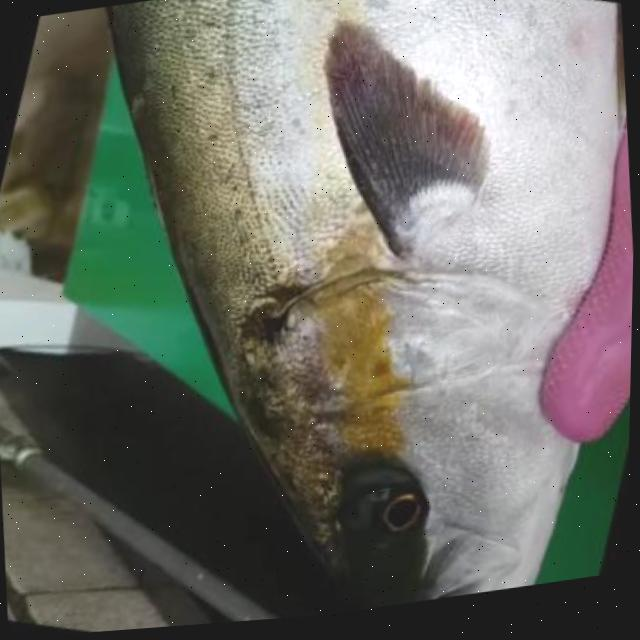Kingfish: (87, 0, 640, 634)
